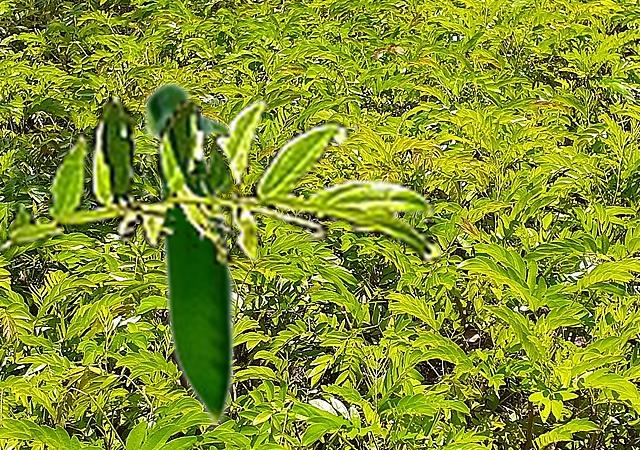pea: (141, 79, 235, 432)
